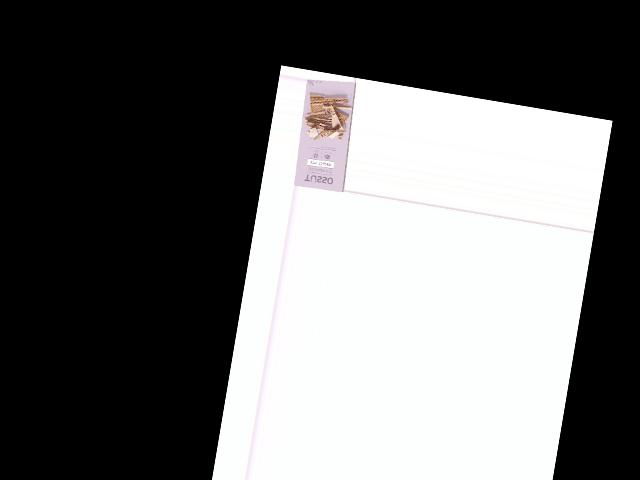chocolate: (292, 74, 358, 190)
